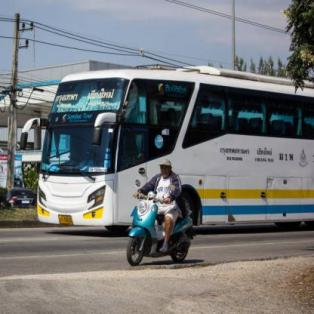Motocicleta: (118, 186, 196, 270)
